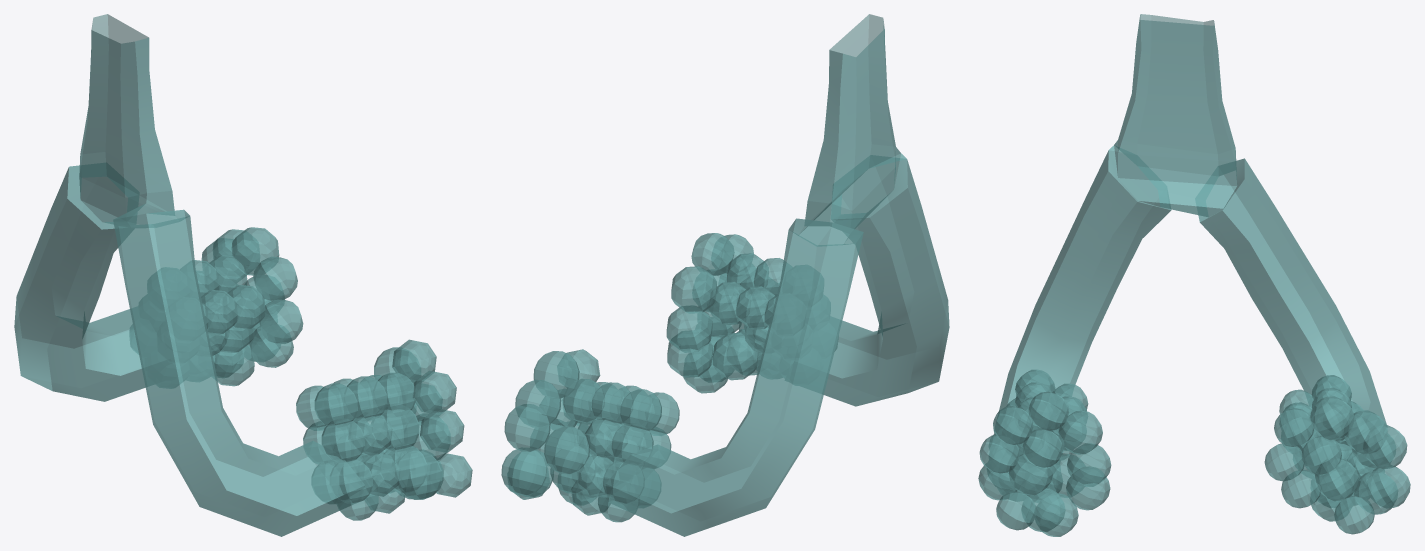
Rendered from lungs_deco.fbx.
3 renders of one model, left to right at view 1: azimuth 30°, elevation 25°; view 2: azimuth 150°, elevation 25°; view 3: azimuth 270°, elevation 25°, orthographic. The views are drawn at different scales.
Parts seen in each view (by area): view 1: lungs_deco; view 2: lungs_deco; view 3: lungs_deco.
Boxes of the visible parts, box(x1,y1,x2,y2) form: lungs_deco: box(14, 14, 472, 536); lungs_deco: box(501, 14, 949, 536); lungs_deco: box(978, 14, 1410, 536).
Bounding box in the file's own units: 0.8466 × 1.33 × 1.23.
